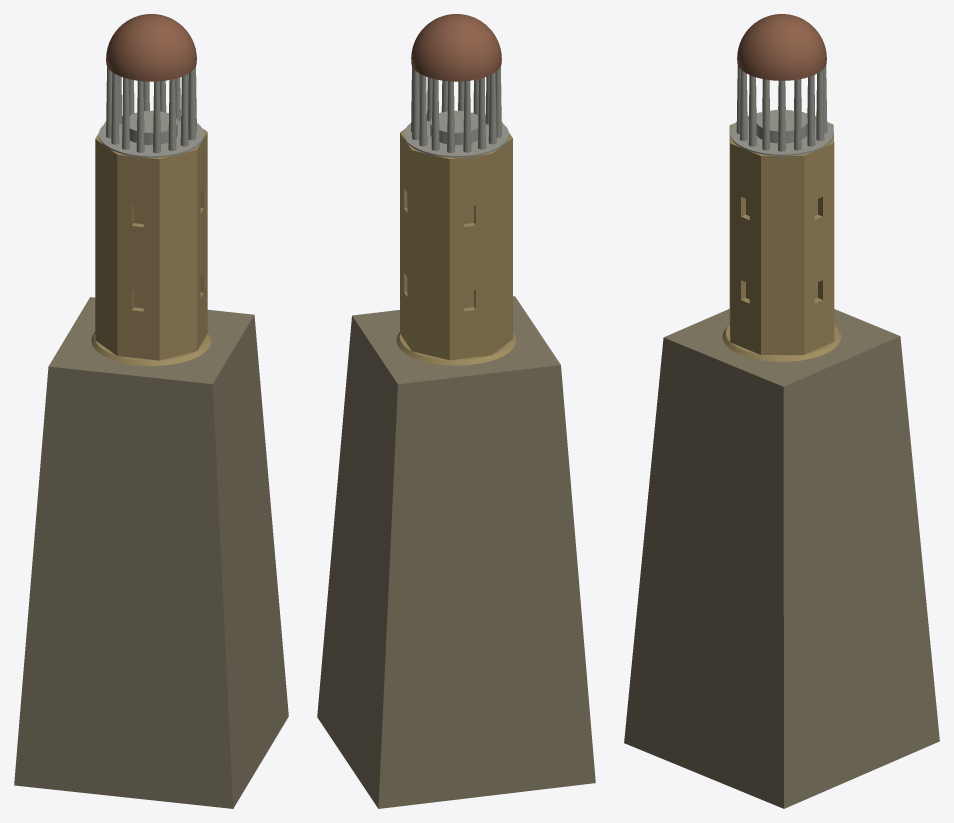
The picture shows the model from 3 angles, left to right: view 1: azimuth 30°, elevation 25°; view 2: azimuth 150°, elevation 25°; view 3: azimuth 270°, elevation 25°; orthographic projection.
Visible parts, largest first — view 1: beacon; view 2: beacon; view 3: beacon.
Part boxes in pixels (x1,y1,x2,y2): beacon: (14, 14, 288, 808); beacon: (317, 14, 595, 808); beacon: (624, 14, 939, 808).
Bounding box in the file's own units: 7.9 × 19.98 × 7.9.
